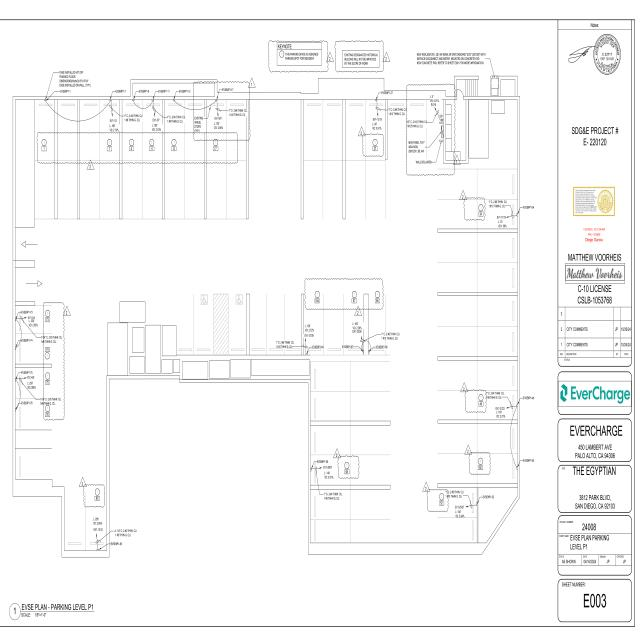evse: (13, 399, 19, 417), (13, 316, 19, 331), (474, 499, 479, 514), (212, 97, 223, 103), (514, 400, 519, 413), (14, 375, 18, 391), (372, 97, 382, 103), (308, 466, 313, 478), (516, 208, 520, 222), (94, 546, 103, 552), (148, 98, 158, 103), (43, 98, 51, 104), (362, 347, 366, 359), (368, 347, 372, 358), (107, 98, 114, 104), (130, 99, 138, 104), (14, 342, 17, 355), (516, 463, 519, 475), (305, 352, 312, 357), (171, 98, 178, 102)
gfi: (440, 118, 444, 121)
panel: (440, 124, 445, 139)
